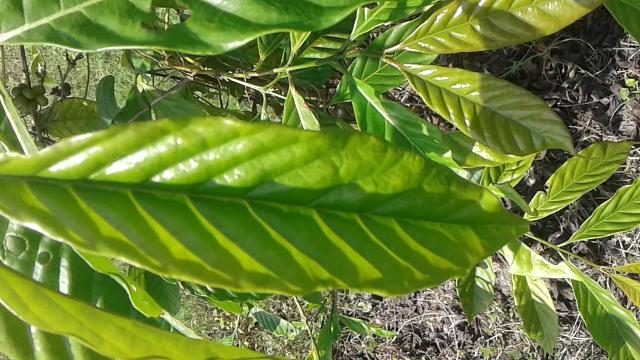healthy: (0, 112, 542, 300)
